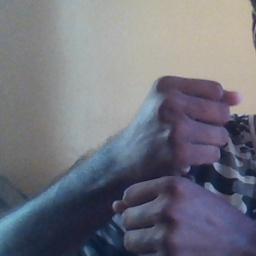G: (121, 74, 245, 254)
